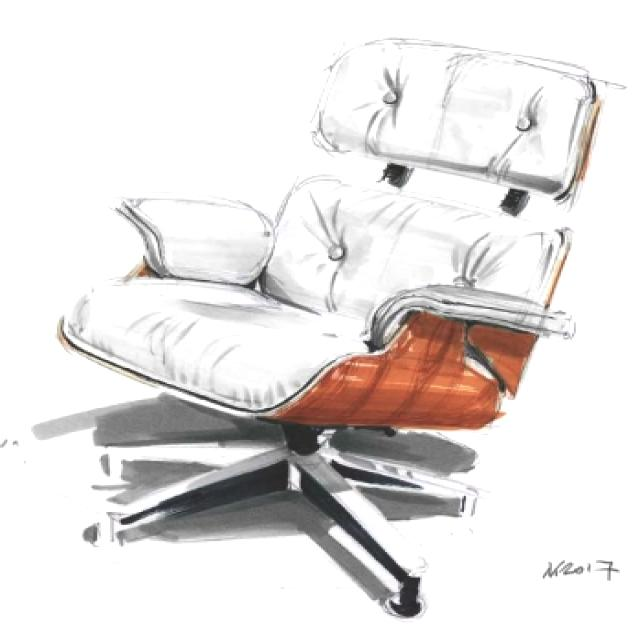Backrest: (259, 172, 578, 331)
Eames_base: (61, 435, 514, 627)
Eames_lounge: (113, 186, 280, 287), (358, 279, 582, 353)
Headrest: (304, 32, 609, 210)
Seat: (50, 273, 506, 433)
